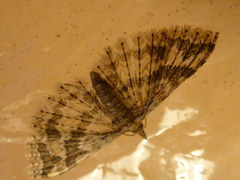Alucitidae: (21, 24, 220, 174)
moth: (23, 26, 222, 176)
